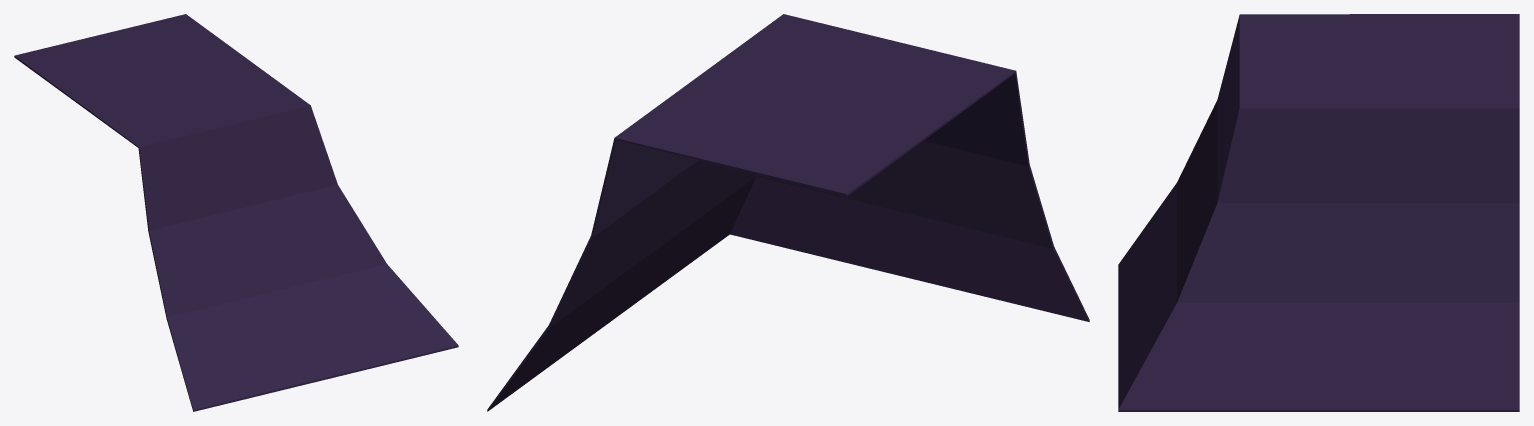
Rendered from toit angle.FBX.
The picture shows the model from 3 angles, left to right: view 1: azimuth 30°, elevation 25°; view 2: azimuth 150°, elevation 25°; view 3: azimuth 270°, elevation 25°; orthographic projection. The views are drawn at different scales.
Parts seen in each view (by area): view 1: toit angle; view 2: toit angle; view 3: toit angle.
Boxes of the visible parts, x1,y1,x2,y2 form: toit angle: (14, 14, 458, 411); toit angle: (487, 14, 1089, 411); toit angle: (1118, 14, 1519, 411).
Bounding box in the file's own units: 118 × 95.75 × 138.
Materials: 1 (1 with a texture image).
